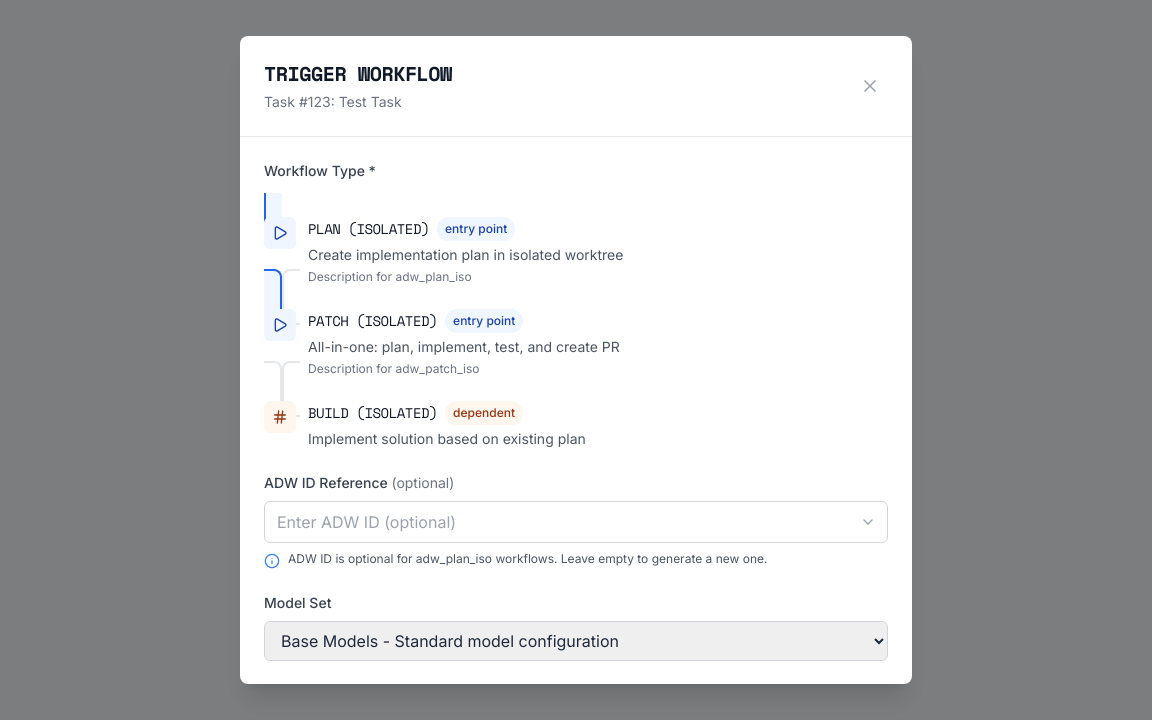
Scenario: WorkflowTriggerModal Component › Patch Request Input › should show patch request input for patch workflow
Click the radio button labelled "Patch (Isolated)": (291, 297) [264,269,888,417]
(page scrolled)
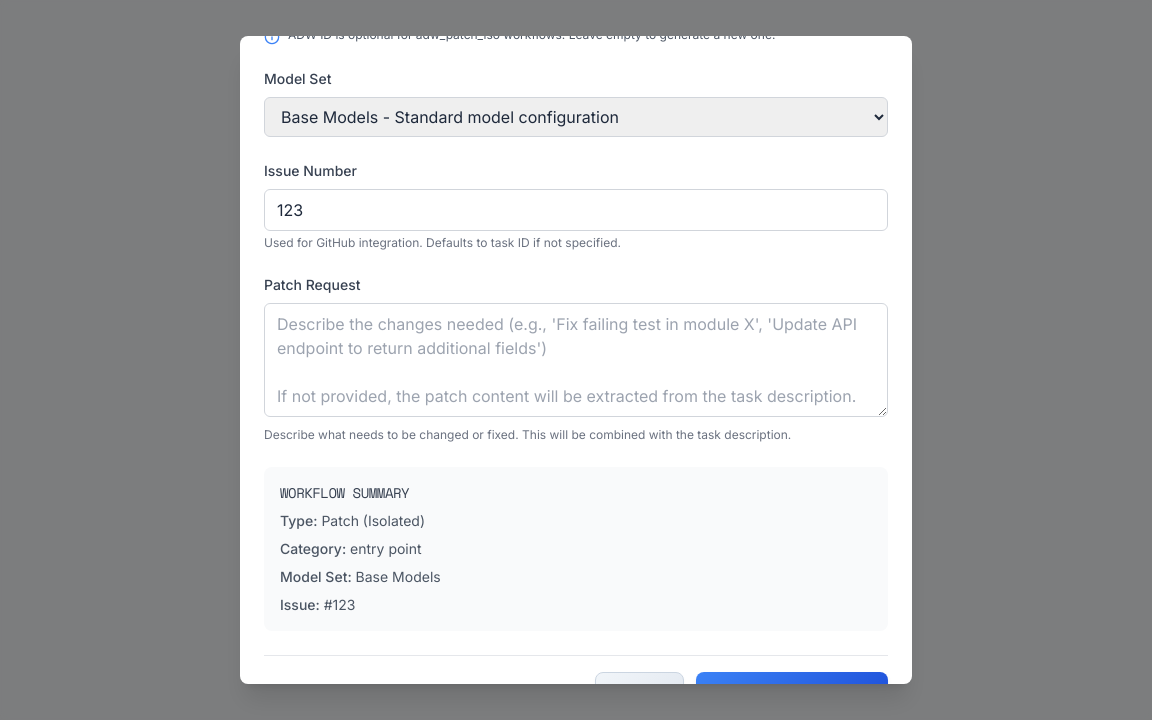
Result: the text box with placeholder "Describe the changes needed" is shown at [264,303,888,417]
